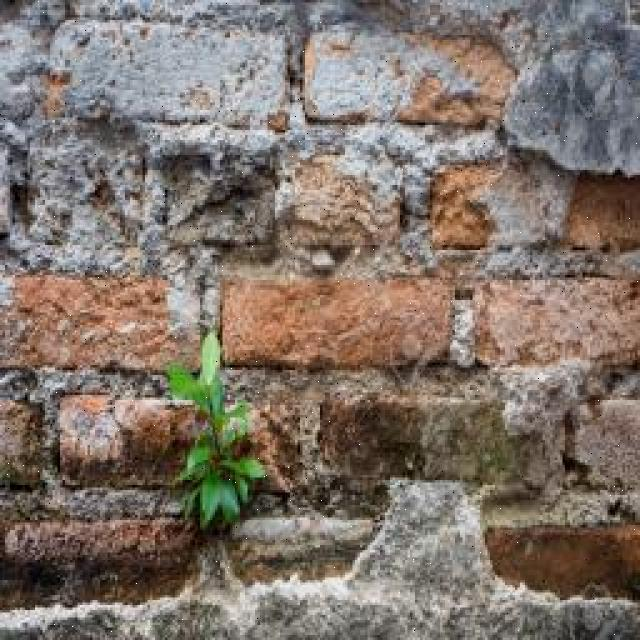crack: (2, 5, 636, 635), (2, 2, 298, 271), (289, 0, 538, 140), (268, 117, 494, 263), (7, 127, 157, 266), (281, 0, 360, 153), (35, 372, 94, 504), (22, 354, 188, 381), (279, 16, 310, 132), (8, 175, 39, 245)
dampens: (6, 537, 413, 639), (487, 0, 640, 263)
dampness: (1, 370, 191, 498)
vegetation: (162, 326, 266, 533), (5, 517, 203, 604), (43, 17, 138, 123), (0, 364, 56, 494), (1, 15, 65, 123), (284, 393, 329, 489), (165, 365, 207, 412), (221, 399, 254, 438)
